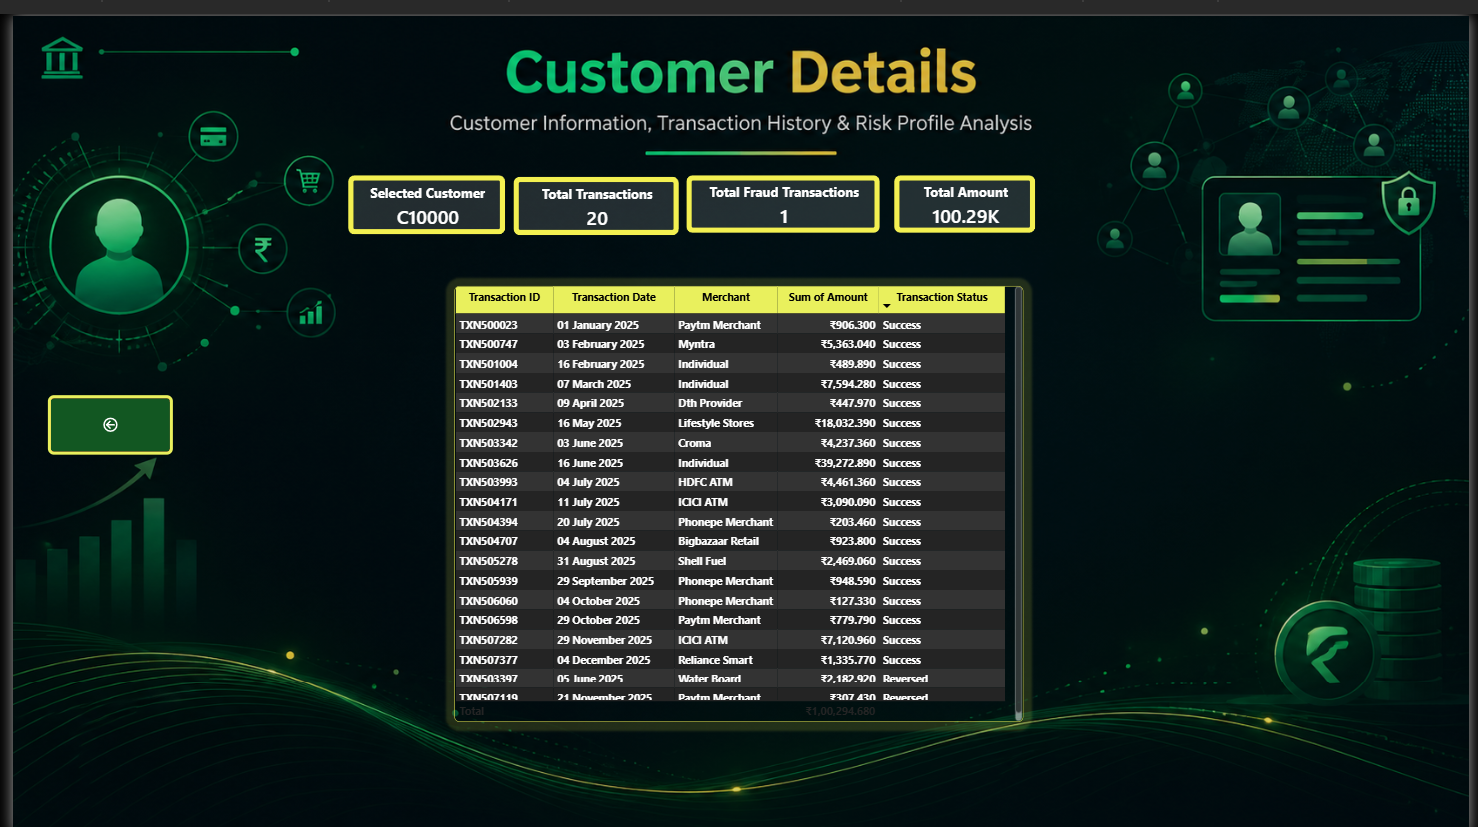

This screenshot's page, from the dashboard's own definition file:
{"tool":"powerbi","page":{"name":"Customer detail","canvas":[1920,1080],"ordinal":4},"visuals":[{"type":"actionButton","box":[46,500,165,78.8],"z":1},{"type":"tableEx","fields":{"Values":["Transactions.Transaction ID","Transactions.Transaction Date","Transactions.Merchant","Sum(Transactions.Amount)","Transactions.Transaction Status"]},"box":[582,356,750,576],"z":2},{"type":"cardVisual","fields":{"Data":["Transactions.Total Transactions"]},"box":[659,211,218,77],"z":3},{"type":"cardVisual","fields":{"Data":["Transactions.Total Fraud Transactions"]},"box":[888,210,255,76],"z":4},{"type":"cardVisual","fields":{"Data":["Transactions.Total Amount"]},"box":[1162,210,186.2,76.2],"z":5},{"type":"cardVisual","fields":{"Data":["Transactions.Selected Customer"]},"box":[441,210,207.5,78.8],"z":6}]}

Visuals, with their boxes in screenshot pixels (x1, y1, x2, y2), scaled from the page's 1920x1080 canvas onto the 1478x827 screenshot:
actionButton: [x1=35, y1=383, x2=162, y2=443]
tableEx - Transactions.Transaction ID x Transactions.Transaction Date: [x1=448, y1=273, x2=1025, y2=714]
cardVisual - Transactions.Total Transactions: [x1=507, y1=162, x2=675, y2=221]
cardVisual - Transactions.Total Fraud Transactions: [x1=684, y1=161, x2=880, y2=219]
cardVisual - Transactions.Total Amount: [x1=894, y1=161, x2=1038, y2=219]
cardVisual - Transactions.Selected Customer: [x1=339, y1=161, x2=499, y2=221]
